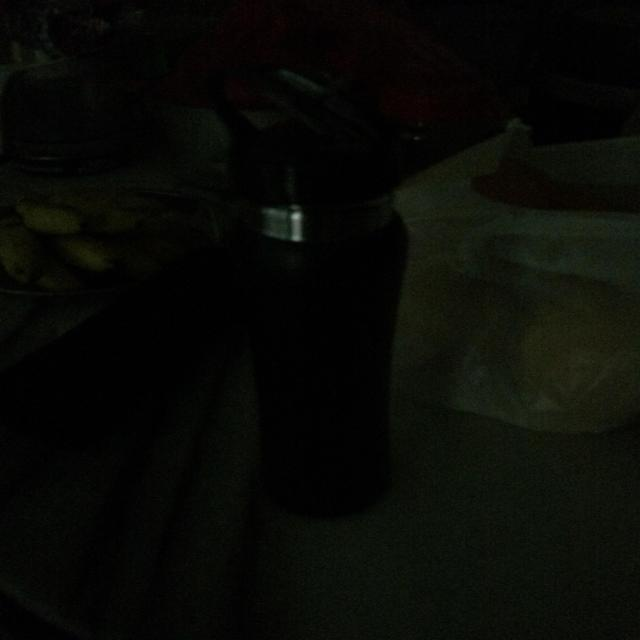Bottle: (223, 101, 432, 523)
